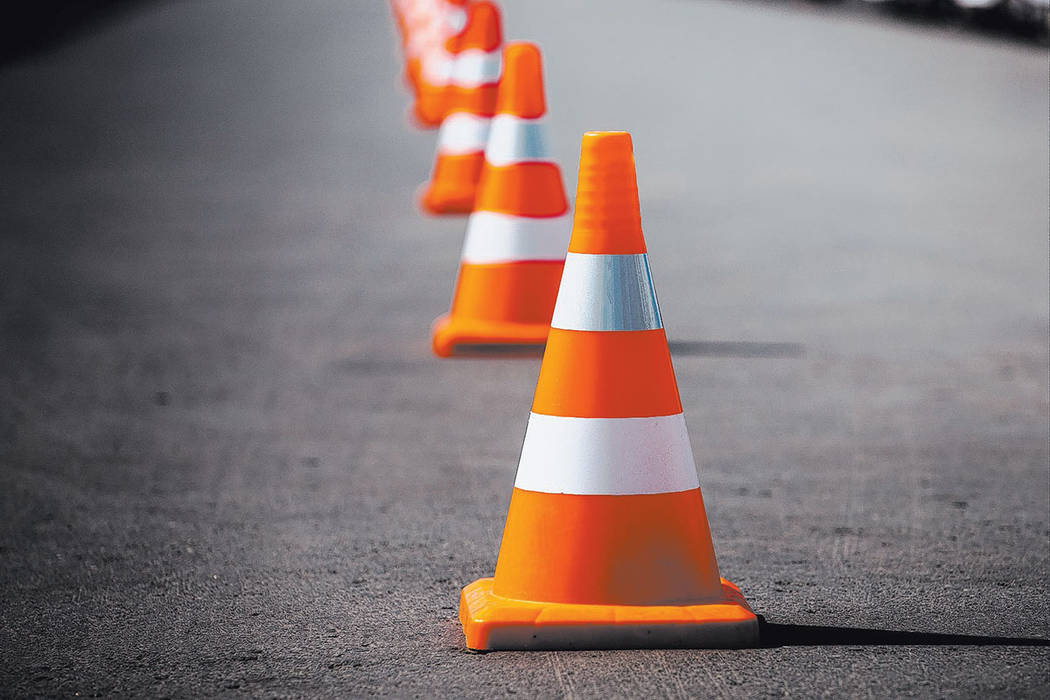cone: (457, 129, 765, 655), (433, 41, 627, 353), (418, 1, 575, 214), (409, 1, 496, 123)
